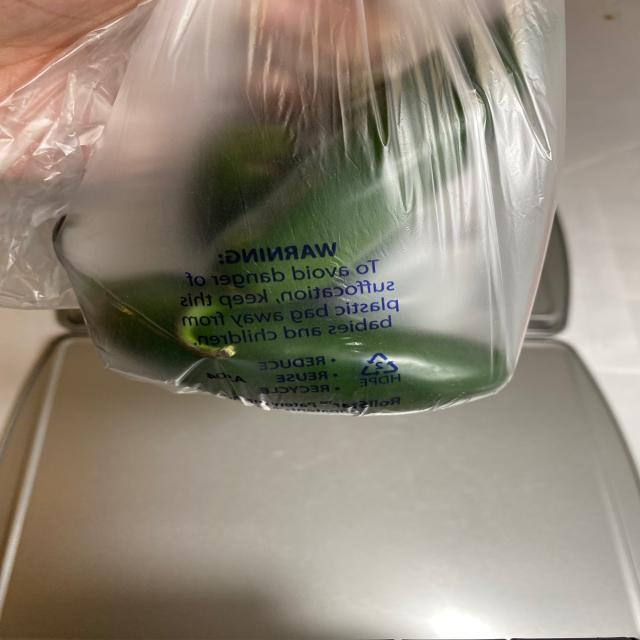chilli: (57, 23, 554, 401)
